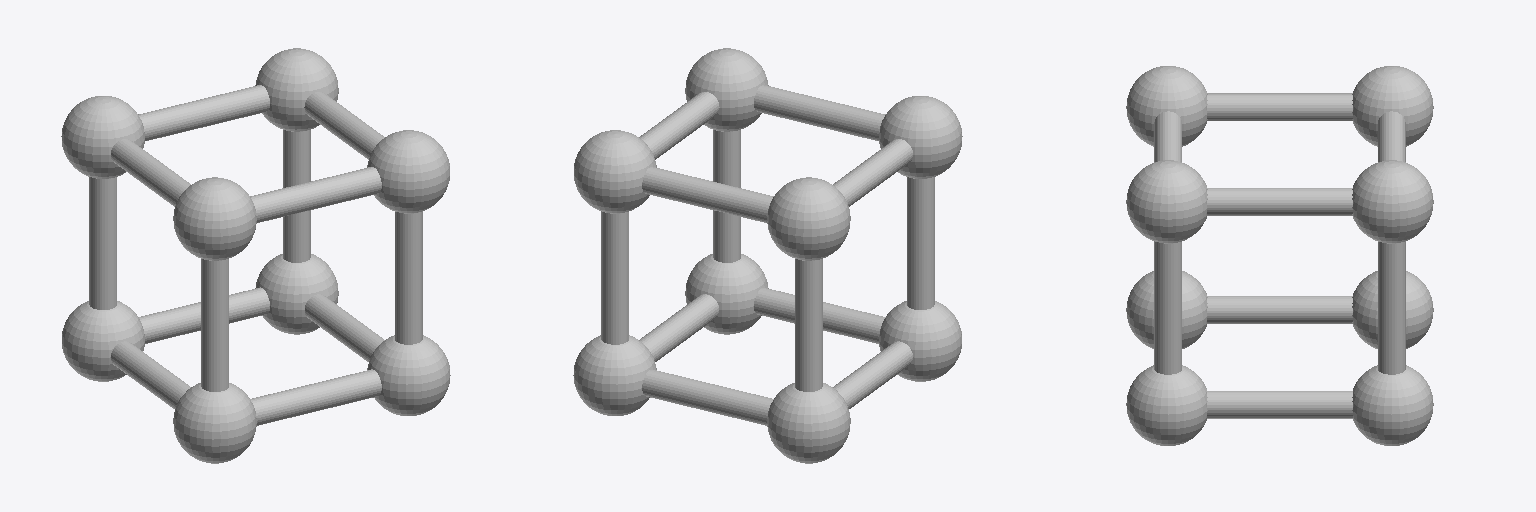
Rendered from cubito.obj.
3 views of the same model, side by side, from view 1: azimuth 30°, elevation 25°; view 2: azimuth 150°, elevation 25°; view 3: azimuth 270°, elevation 25° (orthographic).
Size of the model in its own units: 5.5 by 5.5 by 5.5.